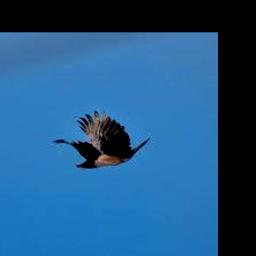Crow: (52, 111, 150, 169)
